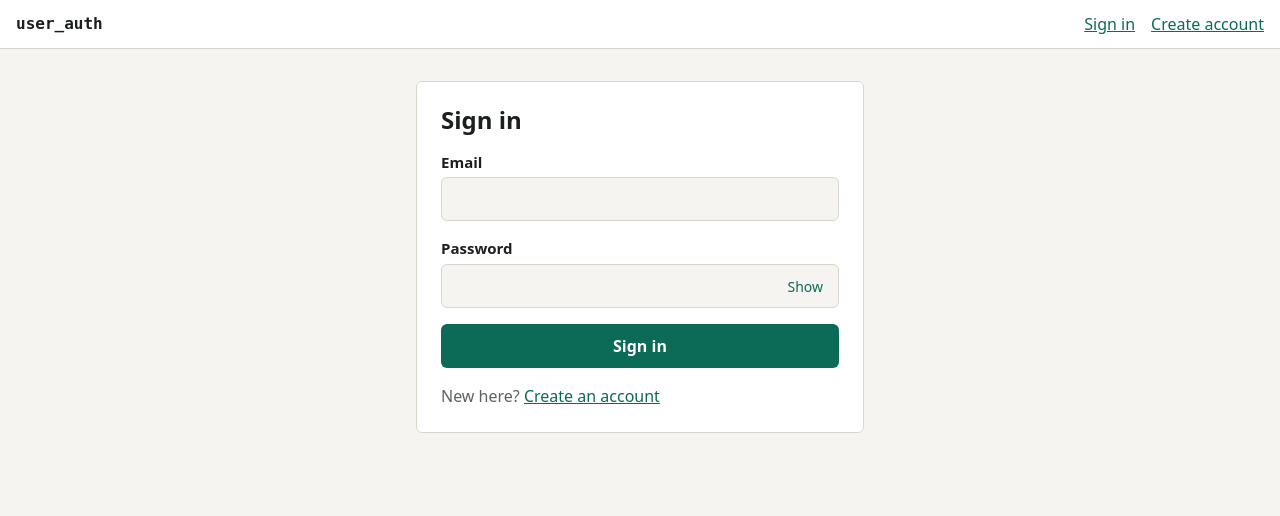
Test: login form › announces a server rejection
The image size is (1280, 516).
In the field labelled "Email": (640, 199) [441, 177, 839, 221], type "ann@example.com"
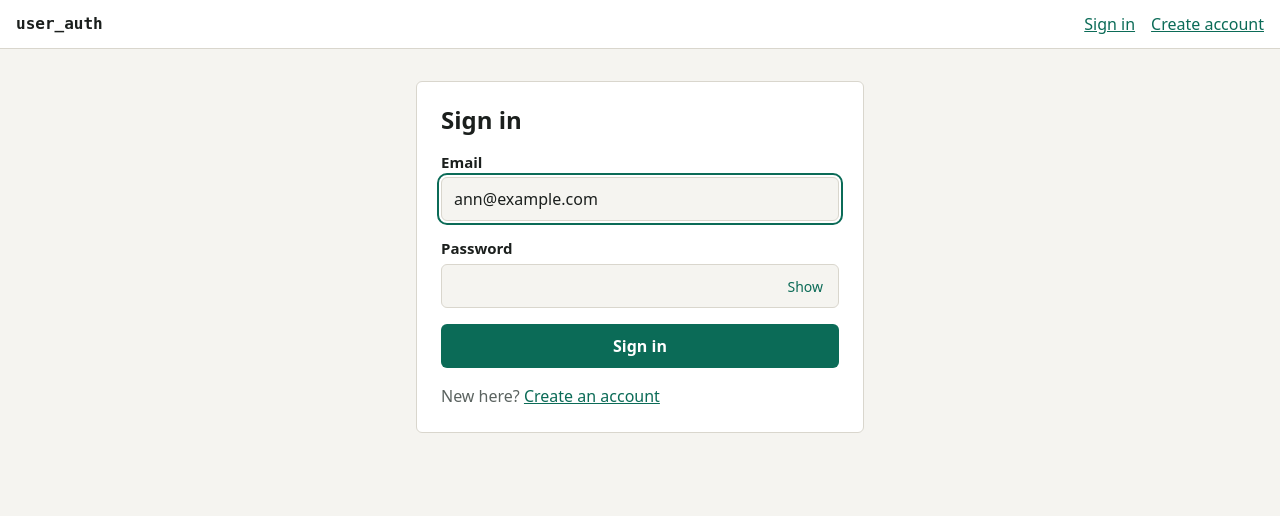
In the password field labelled "Password": (640, 286) [441, 264, 839, 308], type "wrong-password"
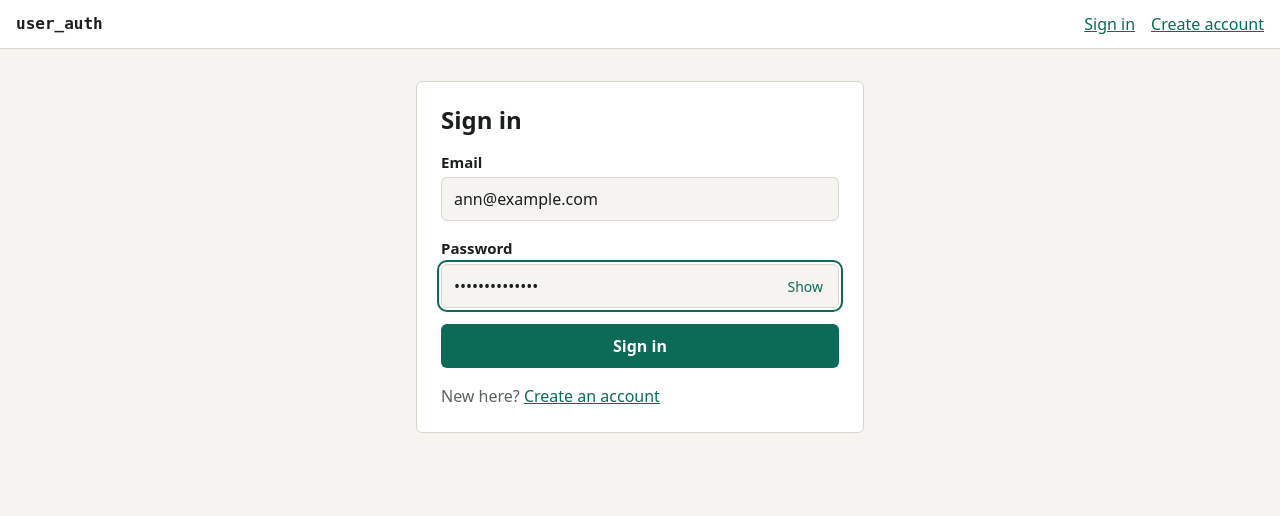
Click the button "Sign in": (640, 346) [441, 324, 839, 368]
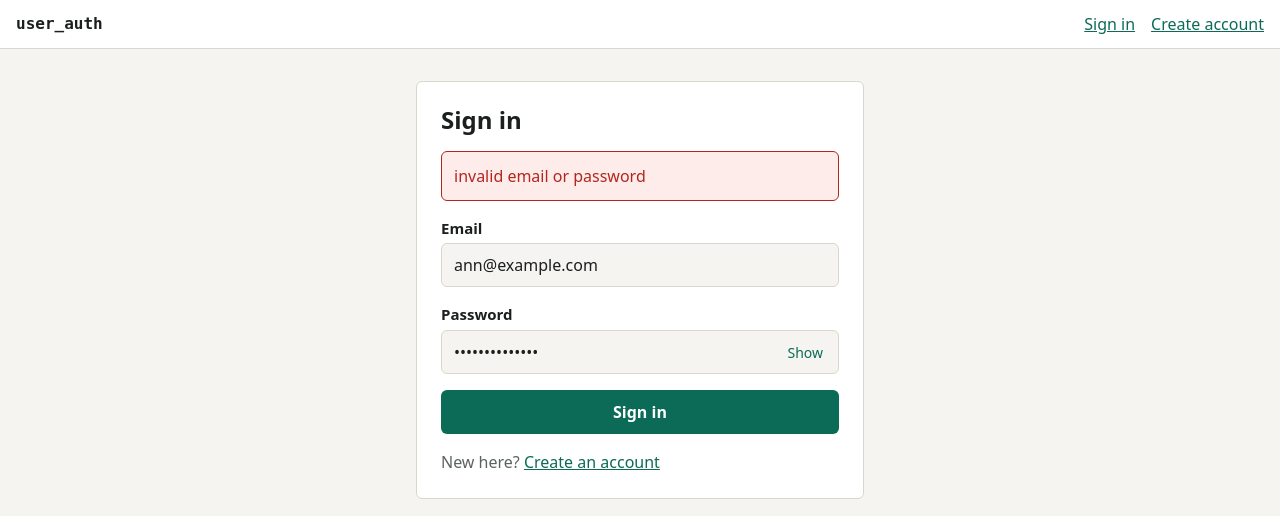
Check: the message reads "invalid email or password", box [454, 165, 646, 187]
